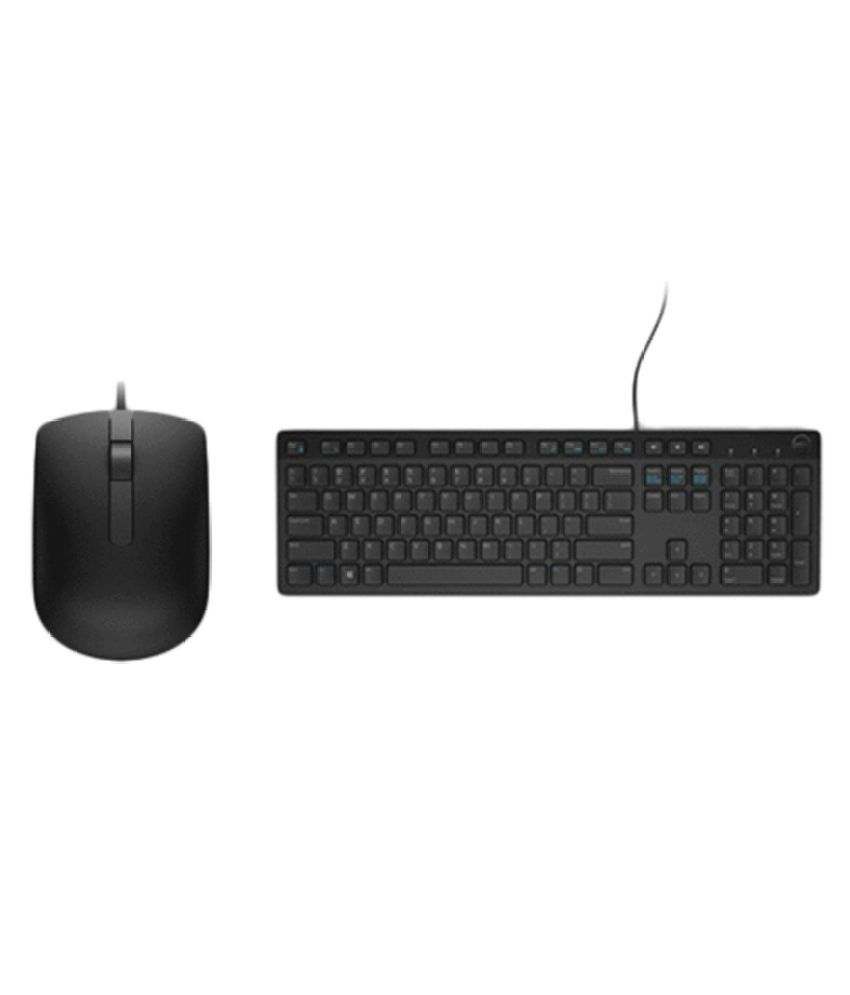dell-mouse-ms116: (34, 374, 217, 684)
